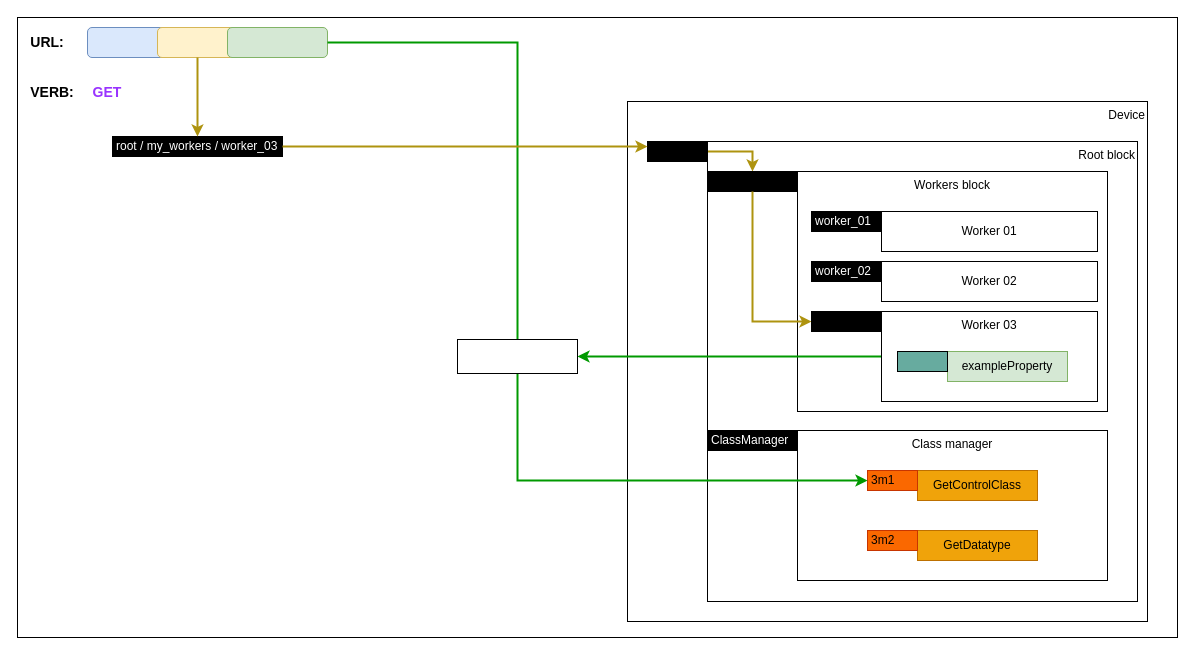
Some shapes in this 1195 by 655 pixel diagram are drawn without their labels. Here are the shapes that lost their labels. From the top down, the centre of each, then its label:
At (x=132, y=42): "baseUrl".
At (x=197, y=42): "rolePath".
At (x=277, y=42): "describe=true".
At (x=677, y=151): "root".
At (x=752, y=181): "my_workers".
At (x=846, y=321): "worker_03".
At (x=517, y=356): "Class Id".
At (x=922, y=361): "7p1".
